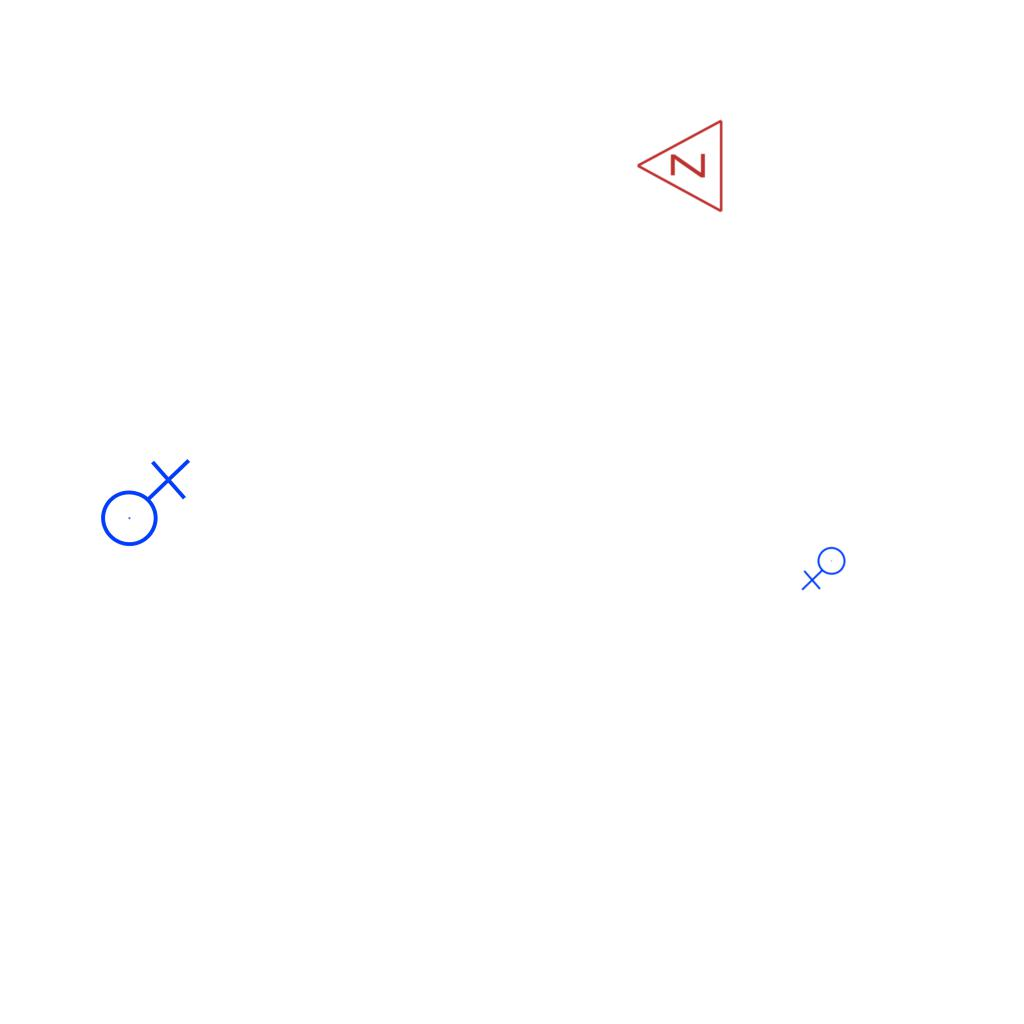Elektroanschluss_allgemein_230V_Geraeteanschlussdose_230V: (92, 454, 191, 548), (801, 546, 850, 593)
Zimmersignalleuchte: (630, 118, 730, 216)
